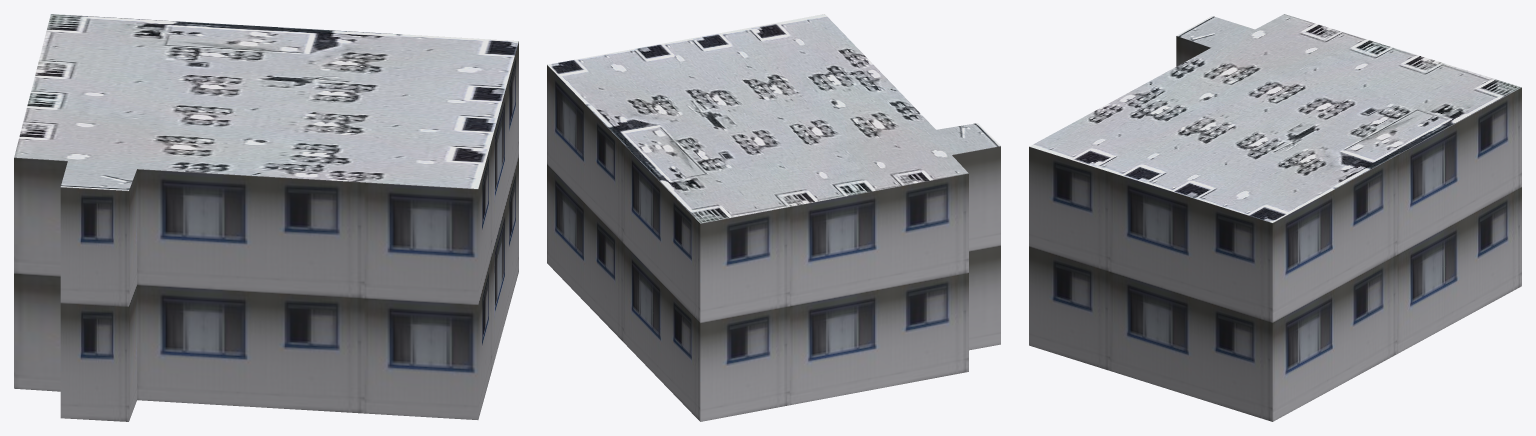
Rendered from ResTex__1967.fbx.
3 renders of one model, left to right at view 1: azimuth 30°, elevation 25°; view 2: azimuth 150°, elevation 25°; view 3: azimuth 270°, elevation 25°, orthographic. The views are drawn at different scales.
Parts seen in each view (by area): view 1: CityEngineMaterial_9_m, CityEngineMaterial_m; view 2: CityEngineMaterial_9_m, CityEngineMaterial_m; view 3: CityEngineMaterial_9_m, CityEngineMaterial_m.
Boxes of the visible parts, <box> form: CityEngineMaterial_9_m: <box>14,41,518,421</box>; CityEngineMaterial_m: <box>14,14,518,190</box>; CityEngineMaterial_9_m: <box>547,65,1000,421</box>; CityEngineMaterial_m: <box>547,14,1000,223</box>; CityEngineMaterial_9_m: <box>1029,36,1521,421</box>; CityEngineMaterial_m: <box>1029,14,1521,222</box>.
Bounding box in the file's own units: 13.53 × 6 × 13.47.
Materials: 2 (2 with a texture image).
